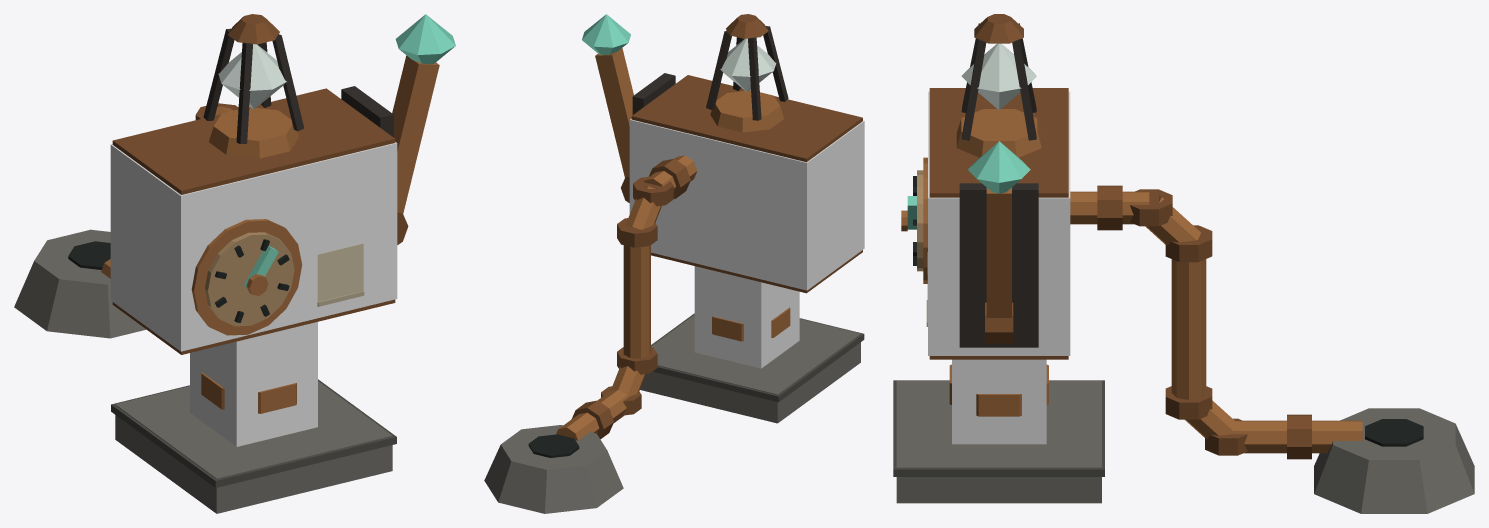
The model's file is camp_call_box.glb.
3 renders of one model, left to right at view 1: azimuth 30°, elevation 25°; view 2: azimuth 150°, elevation 25°; view 3: azimuth 270°, elevation 25°, orthographic. The views are drawn at different scales.
Visible parts, largest first — view 1: Body, camp_call_box-col-col; view 2: Body, camp_call_box-col-col; view 3: Body, camp_call_box-col-col.
Part boxes in pixels (x1,y1,x2,y2): Body: (14,14,455,513); camp_call_box-col-col: (110,142,397,446); Body: (484,14,864,513); camp_call_box-col-col: (629,118,864,368); Body: (893,14,1474,513); camp_call_box-col-col: (928,91,1070,444).
Size of the model in its own units: 2.27 by 3.08 by 3.68.
